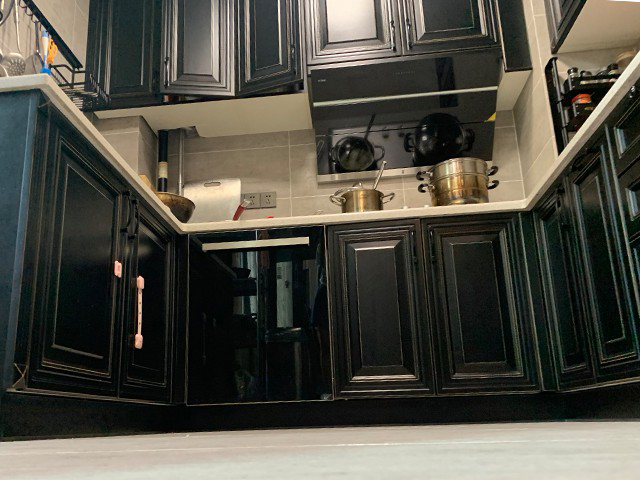cabinet: (179, 202, 540, 431), (1, 72, 181, 437), (535, 55, 640, 443)
